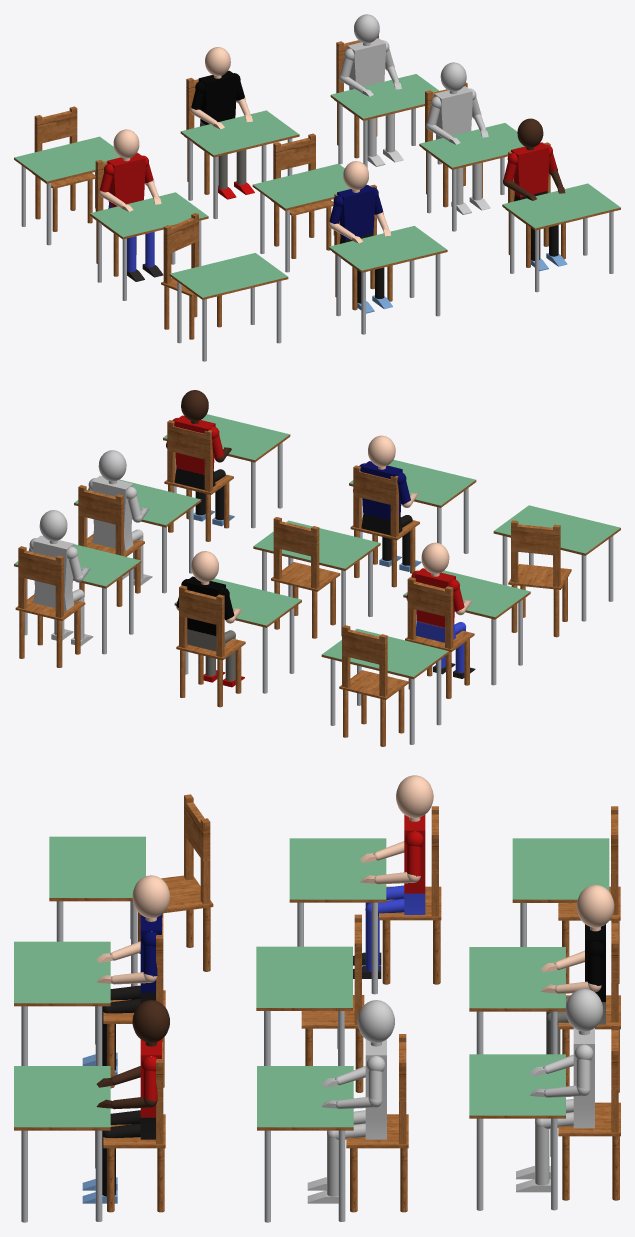
File: Studenti.fbx
3 views of the same model, one above another, from view 1: azimuth 30°, elevation 25°; view 2: azimuth 150°, elevation 25°; view 3: azimuth 270°, elevation 25° (orthographic). The views are drawn at different scales.
Parts seen in each view (by area): view 1: polySurface138, polySurface105, polySurface140, polySurface117, polySurface23, polySurface116, polySurface115, polySurface144, polySurface94, polySurface139, polySurface148, polySurface142 (+12 smaller); view 2: polySurface153, polySurface138, polySurface137, polySurface151, polySurface147, polySurface152, polySurface145, polySurface116, polySurface139, polySurface94, polySurface117, polySurface150 (+12 smaller); view 3: polySurface140, polySurface142, polySurface146, polySurface105, polySurface150, polySurface148, polySurface138, polySurface144, polySurface152, polySurface116, polySurface115, polySurface23 (+12 smaller).
Boxes of the visible parts, box(x1,y1,x2,y2) form: polySurface138: box(169, 253, 288, 361); polySurface105: box(328, 226, 447, 334); polySurface140: box(502, 183, 620, 292); polySurface117: box(190, 47, 254, 199); polySurface23: box(99, 129, 163, 281); polySurface116: box(339, 14, 403, 166); polySurface115: box(426, 62, 490, 214); polySurface144: box(180, 110, 299, 219); polySurface94: box(503, 118, 567, 270); polySurface139: box(328, 161, 392, 313); polySurface148: box(90, 192, 208, 300); polySurface142: box(419, 123, 524, 231); polySurface153: box(339, 625, 408, 746); polySurface138: box(493, 505, 620, 621); polySurface137: box(508, 520, 571, 637); polySurface151: box(271, 517, 340, 638); polySurface147: box(15, 546, 85, 667); polySurface152: box(321, 629, 448, 744); polySurface145: box(176, 585, 245, 707); polySurface116: box(28, 510, 93, 645); polySurface139: box(353, 435, 421, 571); polySurface94: box(166, 390, 234, 526); polySurface117: box(176, 551, 244, 687); polySurface150: box(253, 520, 380, 636); polySurface140: box(14, 1066, 110, 1222); polySurface142: box(257, 1066, 353, 1222); polySurface146: box(469, 1054, 565, 1210); polySurface105: box(14, 941, 110, 1065); polySurface150: box(256, 946, 352, 1065); polySurface148: box(289, 838, 386, 994); polySurface138: box(49, 836, 145, 986); polySurface144: box(469, 947, 565, 1054); polySurface152: box(512, 838, 609, 946); polySurface116: box(516, 988, 603, 1192); polySurface115: box(307, 1000, 394, 1203); polySurface23: box(353, 775, 433, 978).
Bounding box in the file's own units: 4.73 × 1.48 × 4.18.
